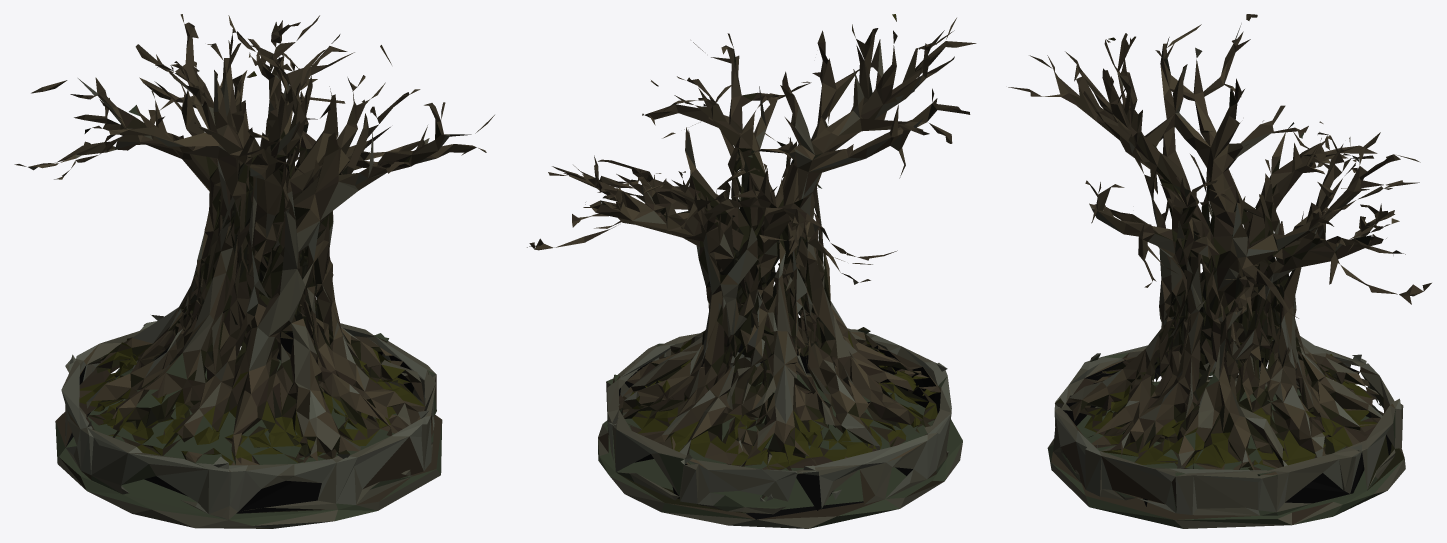
Rendered from banyan-trunk.glb.
The picture shows the model from 3 angles, left to right: view 1: azimuth 30°, elevation 25°; view 2: azimuth 150°, elevation 25°; view 3: azimuth 270°, elevation 25°; orthographic projection. The views are drawn at different scales.
Parts seen in each view (by area): view 1: banyan; view 2: banyan; view 3: banyan.
Boxes of the visible parts, bbox=[...] form: banyan: bbox=[14, 14, 494, 528]; banyan: bbox=[527, 14, 976, 528]; banyan: bbox=[1008, 14, 1431, 528].
Size of the model in its own units: 10.36 by 11 by 10.77.
